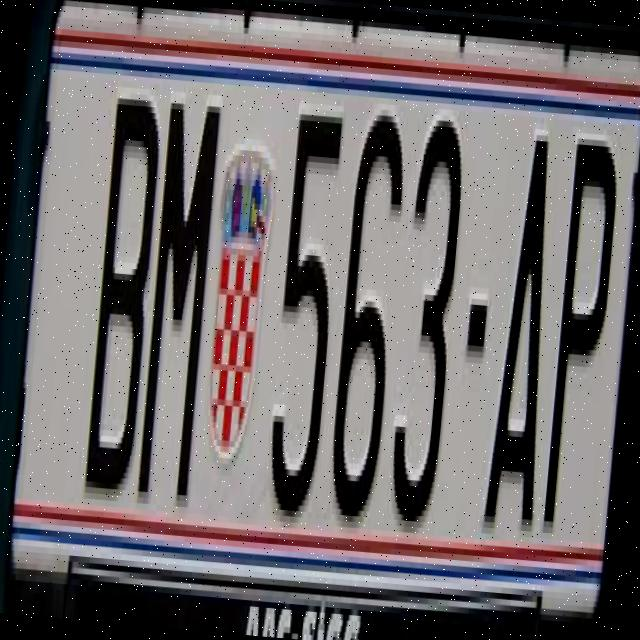Autre: (3, 0, 640, 627)
